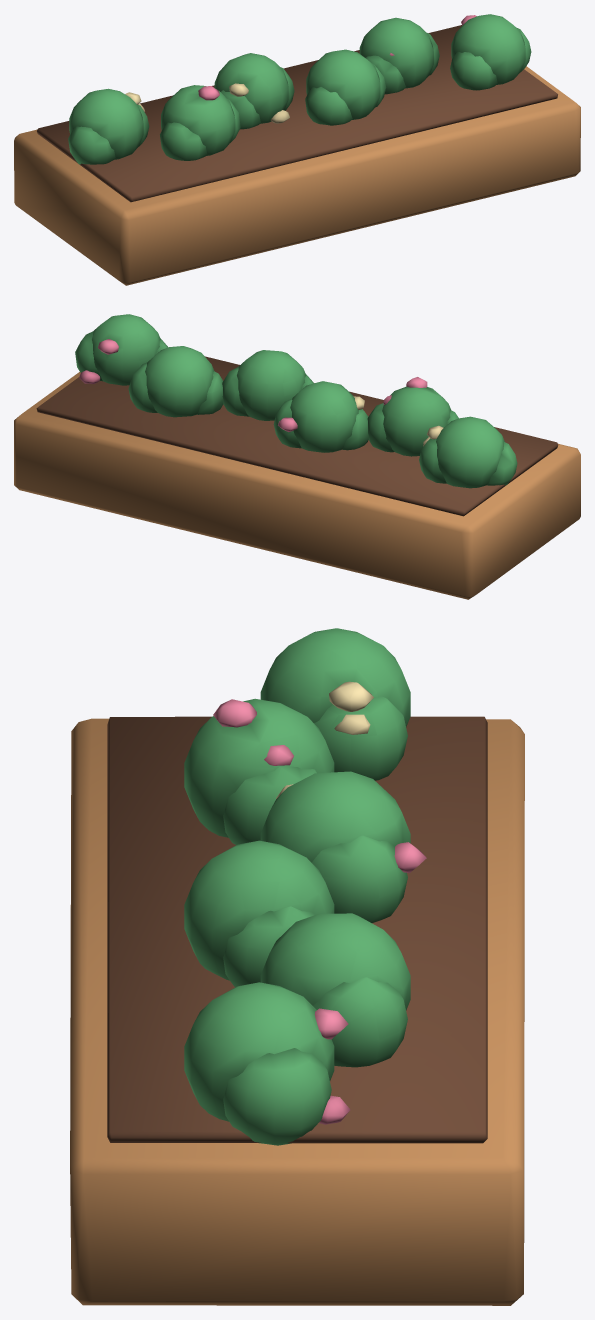
The model's file is flower-bed.glb.
3 views of the same model, one above another, from view 1: azimuth 30°, elevation 25°; view 2: azimuth 150°, elevation 25°; view 3: azimuth 270°, elevation 25° (orthographic). The views are drawn at different scales.
Parts seen in each view (by area): view 1: flower-bed; view 2: flower-bed; view 3: flower-bed.
Boxes of the visible parts, x1,y1,x2,y2 form: flower-bed: [14, 14, 580, 285]; flower-bed: [14, 314, 580, 599]; flower-bed: [70, 628, 524, 1305].
Bounding box in the file's own units: 1.4 × 0.4086 × 0.5969.
